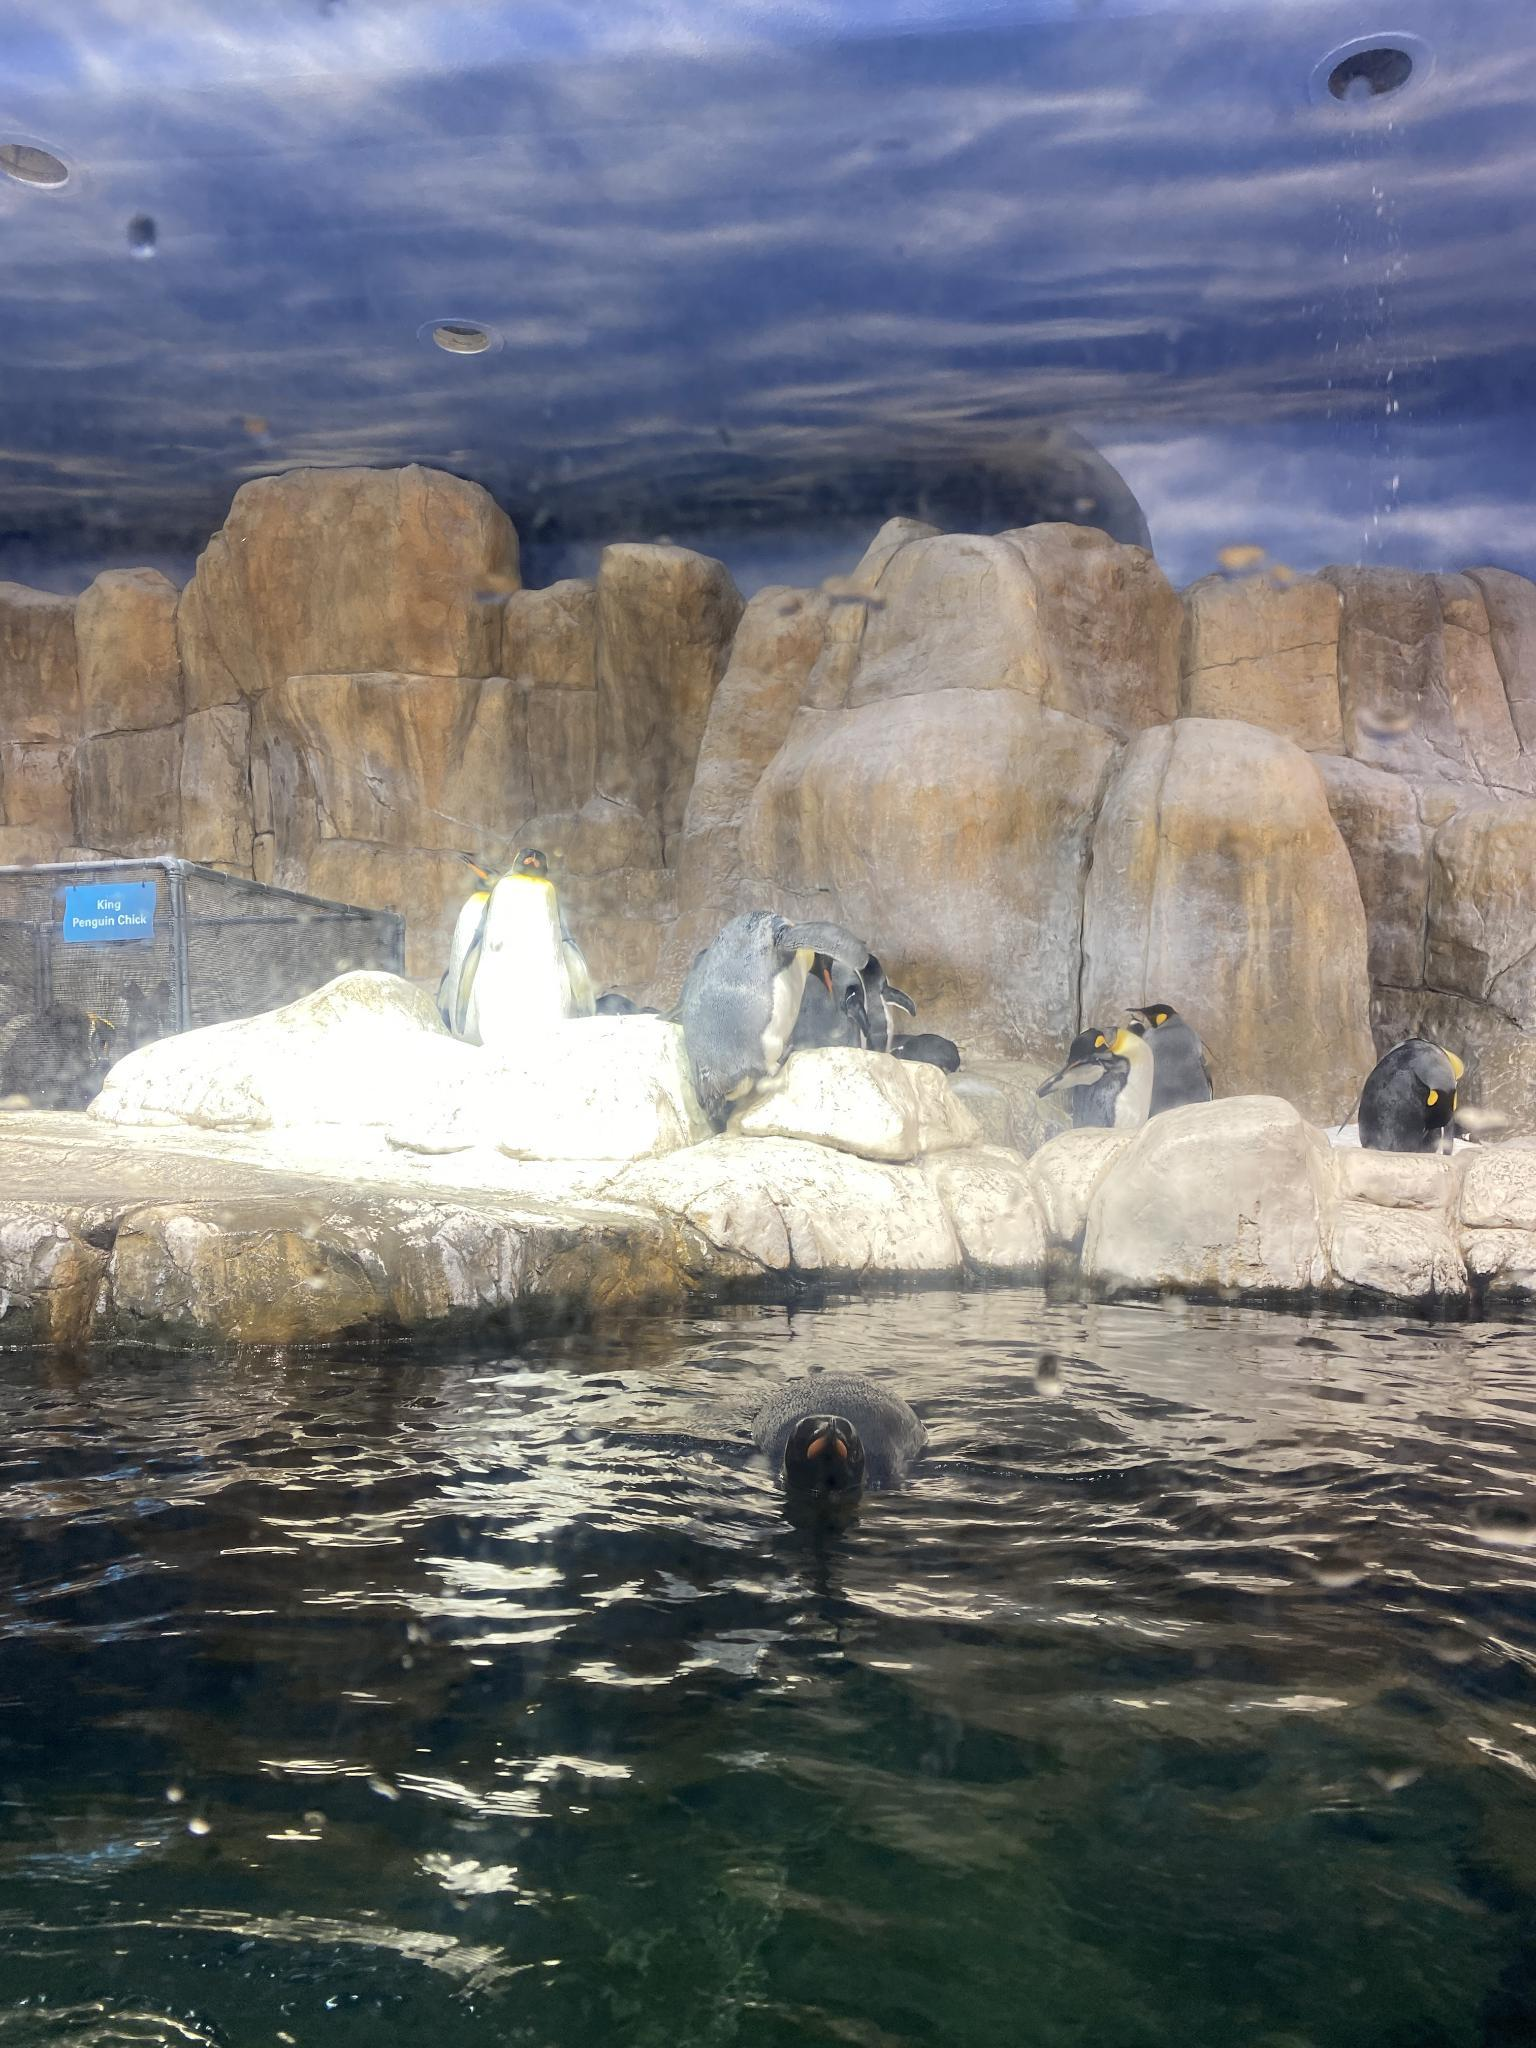penguin: (657, 913, 868, 1137), (455, 848, 597, 1047), (757, 1367, 929, 1514), (1333, 1039, 1463, 1159), (437, 853, 503, 1047), (1034, 1027, 1152, 1135), (1128, 1005, 1218, 1121)
